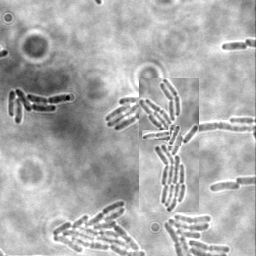Dividing: (200, 123, 255, 142), (221, 41, 248, 52), (142, 130, 170, 140)
Microcolony: (139, 78, 199, 212), (51, 200, 147, 255), (162, 212, 231, 255), (8, 89, 72, 126), (106, 96, 139, 132), (208, 182, 240, 193)
Rod: (168, 125, 181, 146)
